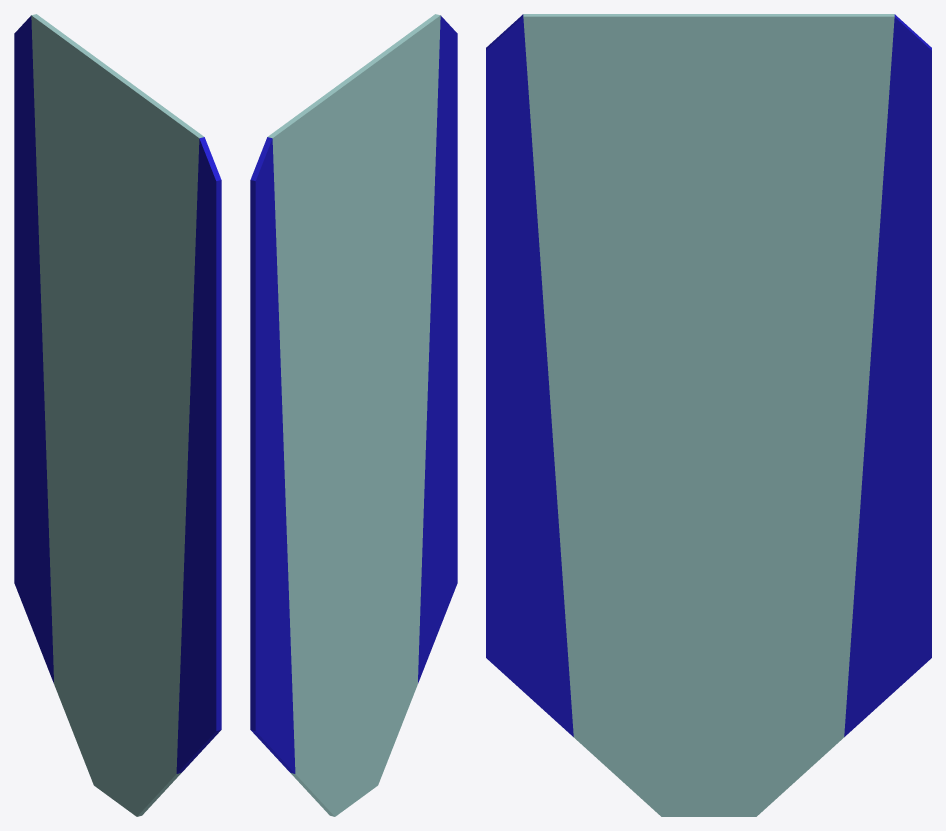
The model's file is Flag.fbx.
The picture shows the model from 3 angles, left to right: view 1: azimuth 30°, elevation 25°; view 2: azimuth 150°, elevation 25°; view 3: azimuth 270°, elevation 25°; orthographic projection. The views are drawn at different scales.
Parts seen in each view (by area): view 1: Cube; view 2: Cube; view 3: Cube.
Boxes of the visible parts, x1,y1,x2,y2 form: Cube: [14, 14, 221, 816]; Cube: [250, 14, 457, 816]; Cube: [486, 14, 931, 816].
Bounding box in the file's own units: 7.56 × 995 × 502.
